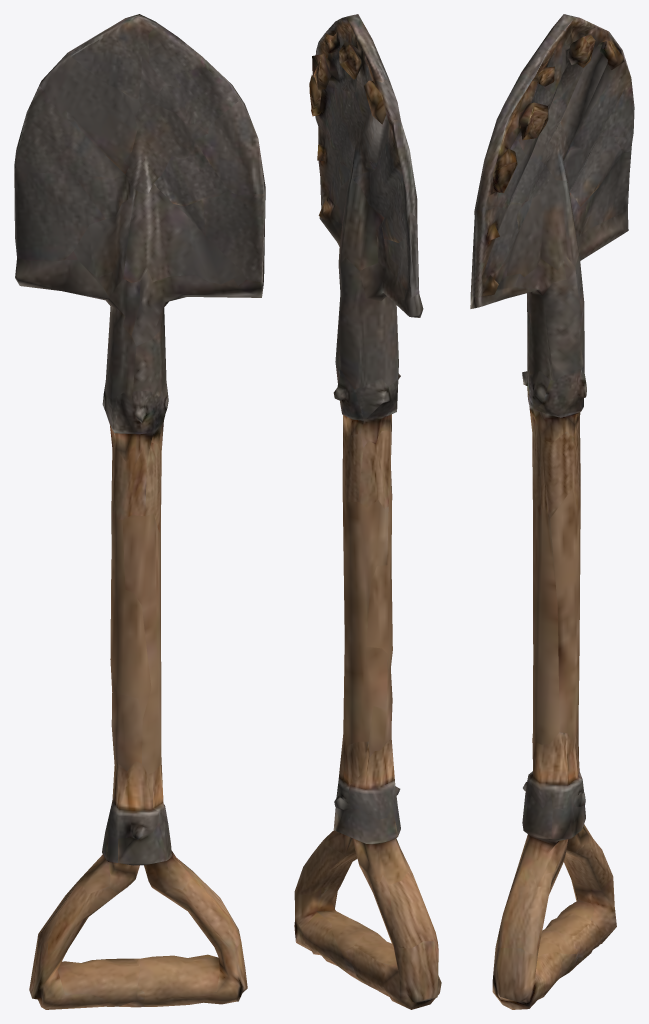
Rendered from melee_shovel_lod1.glb.
The picture shows the model from 3 angles, left to right: view 1: azimuth 30°, elevation 25°; view 2: azimuth 150°, elevation 25°; view 3: azimuth 270°, elevation 25°; orthographic projection. The views are drawn at different scales.
Parts seen in each view (by area): view 1: melee_shovel; view 2: melee_shovel; view 3: melee_shovel.
Boxes of the visible parts, x1,y1,x2,y2 form: melee_shovel: (14,14,265,1009); melee_shovel: (294,14,441,1009); melee_shovel: (470,14,634,1009).
Size of the model in its own units: 0.1813 by 0.9495 by 0.1469.
1 material, 1 textured.
